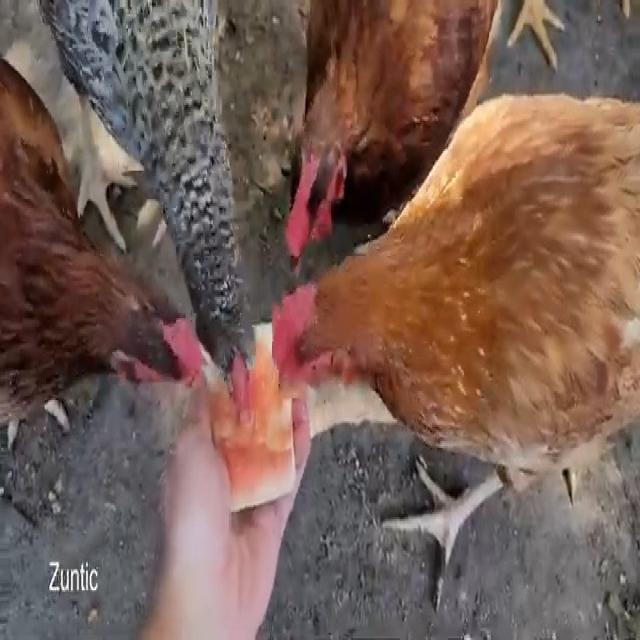feeding: (273, 86, 640, 612), (0, 55, 220, 453), (49, 0, 229, 423)
